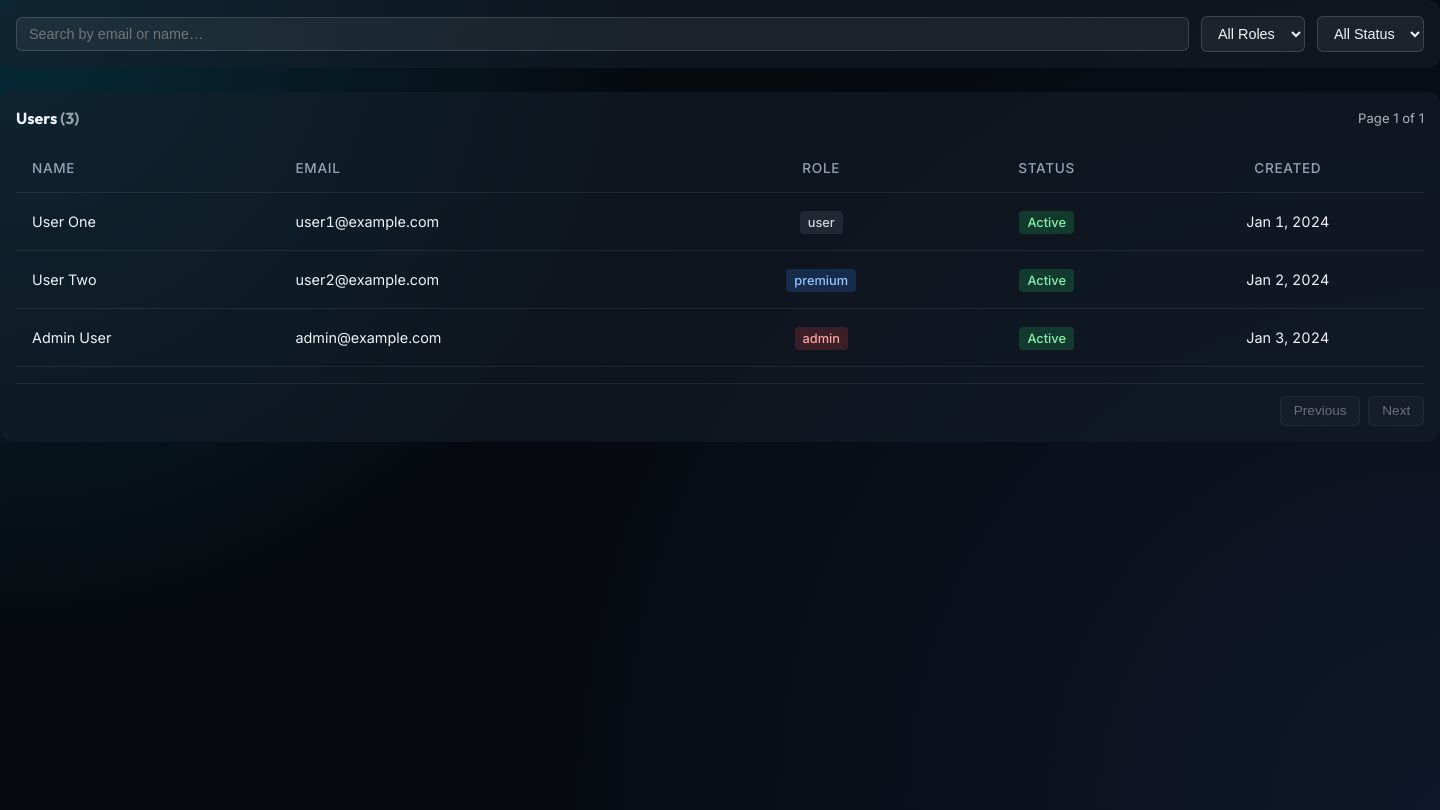
it: UsersTab › opens user detail view on row click
Expected: the text "user1@example.com" is shown, top-left (280, 192), bottom-right (701, 250)
Expected: the text "User One" is shown, top-left (32, 213), bottom-right (96, 230)
Click the text "User One": point(720, 222) top-left (16, 192), bottom-right (1424, 250)
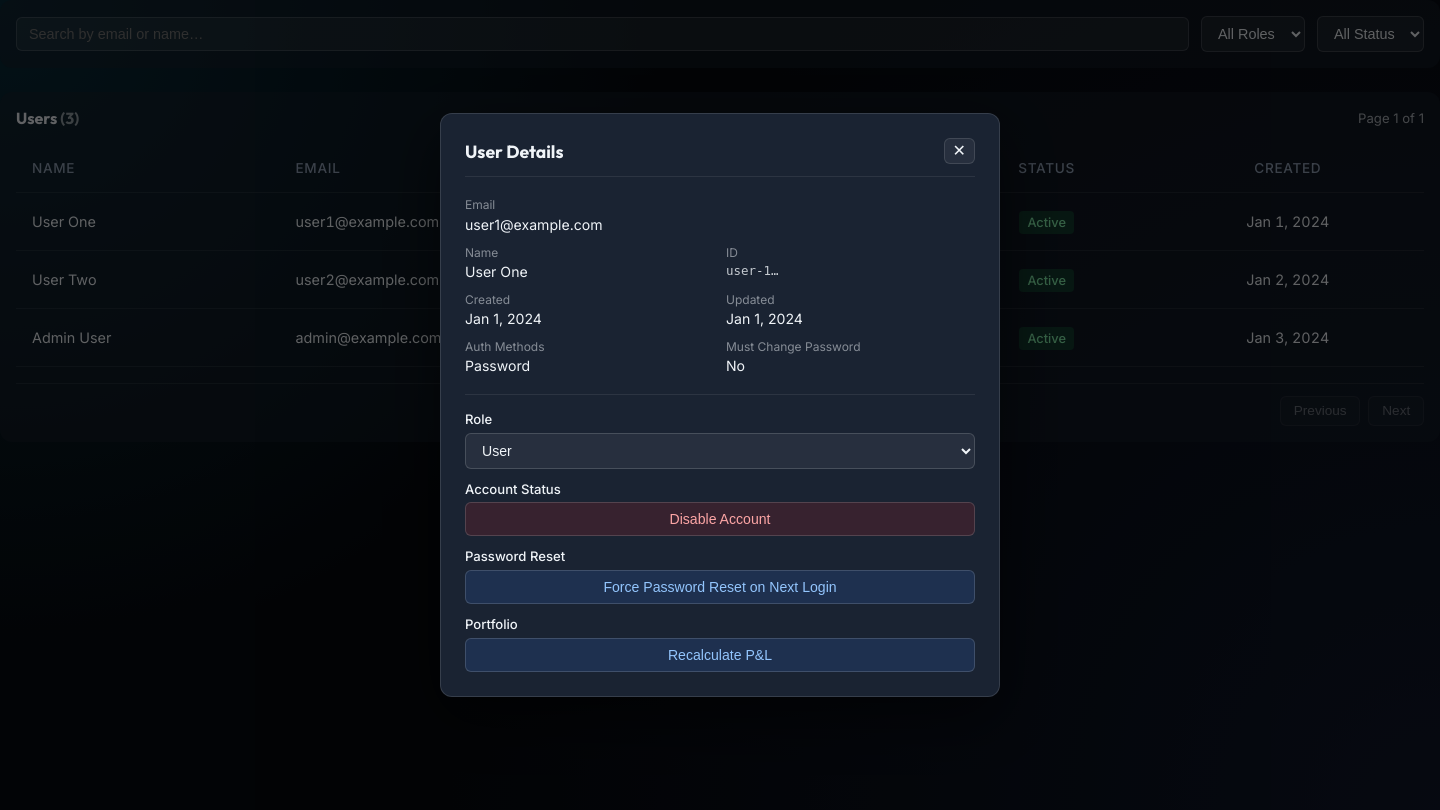
Now the heading "User Details" is shown, box top-left (465, 140), bottom-right (564, 163)
Now the text "user-1…" is shown, box top-left (726, 263), bottom-right (779, 278)
